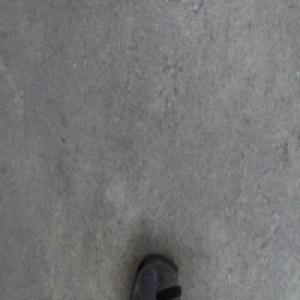AdjustableWrench: (130, 254, 183, 298)
